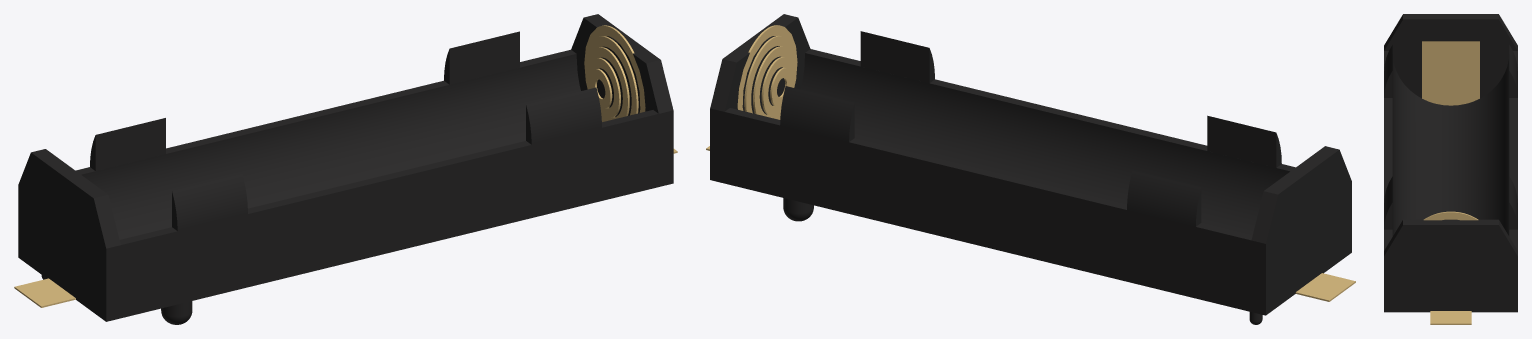
File: batteryholder_keystone_1042_1x18650.glb
3 views of the same model, side by side, from view 1: azimuth 30°, elevation 25°; view 2: azimuth 150°, elevation 25°; view 3: azimuth 270°, elevation 25° (orthographic). The views are drawn at different scales.
Parts seen in each view (by area): view 1: socket_18650, pin_2; view 2: socket_18650, pin_4; view 3: socket_18650.
Part boxes in pixels (x1,y1,x2,y2): socket_18650: [14, 14, 677, 321]; pin_2: [161, 301, 192, 324]; socket_18650: [706, 14, 1355, 315]; pin_4: [783, 198, 813, 221]; socket_18650: [1384, 14, 1517, 324].
Bounding box in the file's own units: 0.0864 × 0.0198 × 0.0206.
